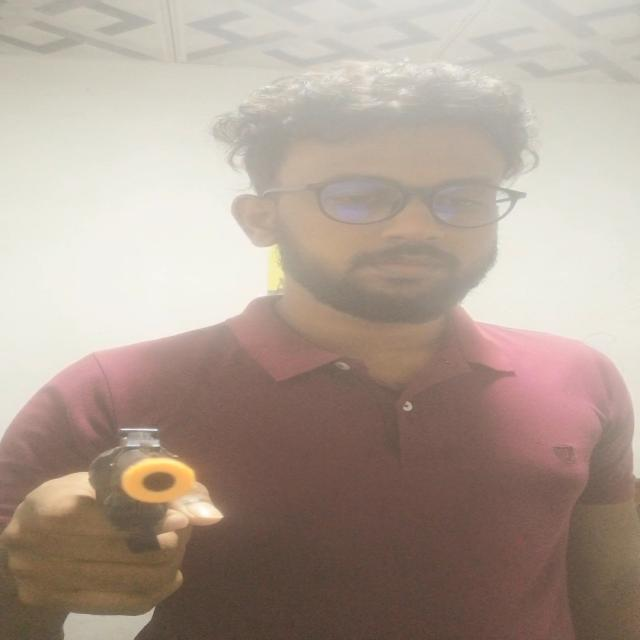Gun_Holder: (0, 402, 298, 640)
Person: (0, 69, 640, 640)
